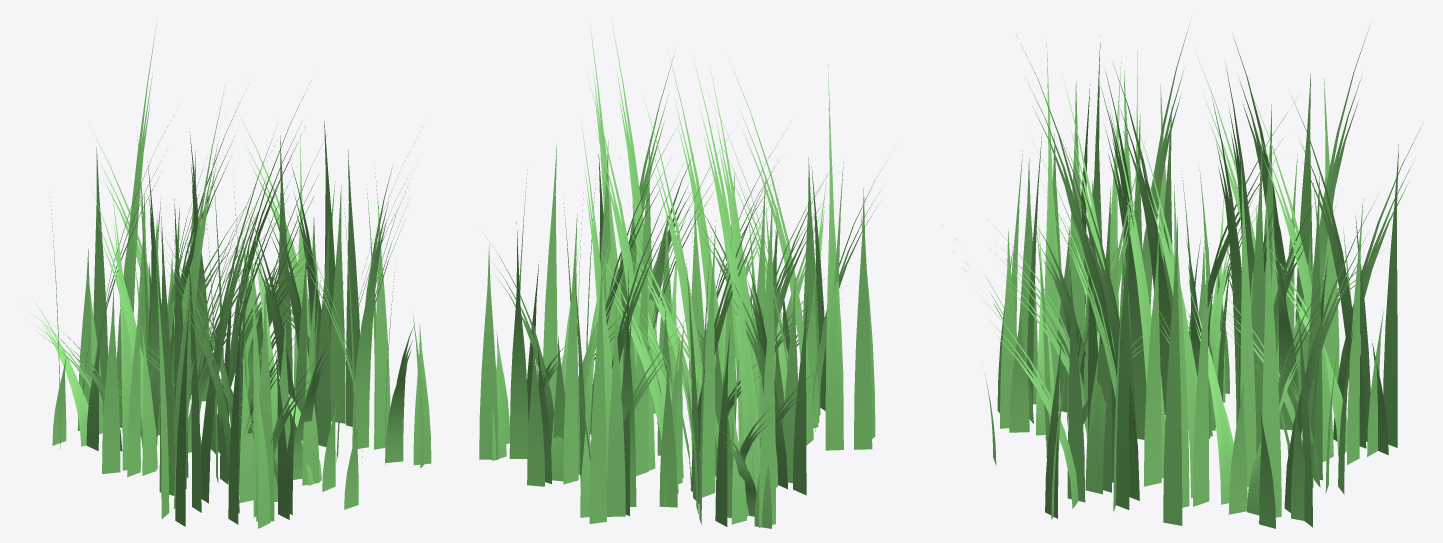
The model's file is SM_Grass.fbx.
3 views of the same model, side by side, from view 1: azimuth 30°, elevation 25°; view 2: azimuth 150°, elevation 25°; view 3: azimuth 270°, elevation 25° (orthographic). The views are drawn at different scales.
Visible parts, largest first — view 1: Grass_D, Grass_C, Grass_B, Grass_A; view 2: Grass_D, Grass_C, Grass_B, Grass_A; view 3: Grass_D, Grass_C, Grass_B, Grass_A.
Boxes of the visible parts, <box> form: Grass_D: <box>50,121,431,528</box>; Grass_C: <box>36,99,411,515</box>; Grass_B: <box>22,22,420,501</box>; Grass_A: <box>38,72,412,507</box>; Grass_D: <box>479,140,875,528</box>; Grass_C: <box>495,96,878,516</box>; Grass_B: <box>487,21,881,515</box>; Grass_A: <box>493,70,879,515</box>; Grass_D: <box>984,70,1398,528</box>; Grass_C: <box>962,96,1408,515</box>; Grass_B: <box>941,23,1420,513</box>; Grass_A: <box>953,70,1414,514</box>.
Size of the model in its own units: 128 by 144 by 151.
